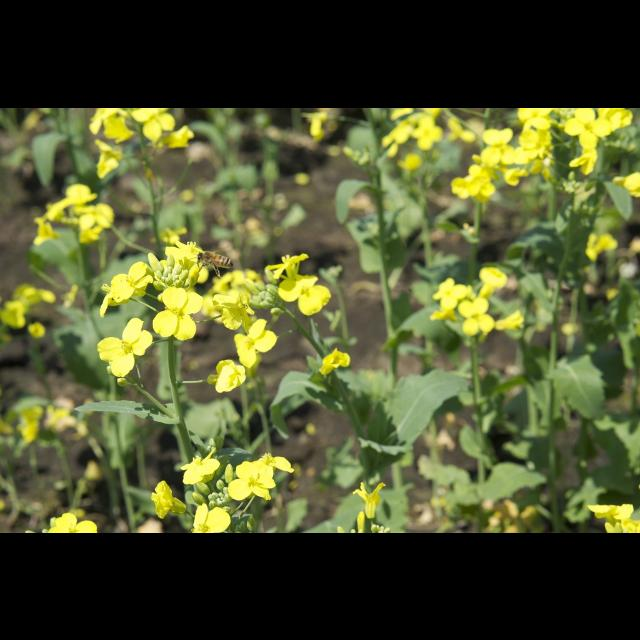Flower: (384, 107, 634, 201), (95, 237, 272, 333), (88, 107, 198, 179), (430, 264, 530, 334), (34, 178, 118, 242), (0, 398, 91, 448), (0, 281, 78, 337), (98, 316, 148, 374), (151, 284, 201, 340), (274, 272, 332, 318), (226, 458, 276, 502), (236, 316, 276, 366), (179, 447, 221, 485), (203, 356, 243, 394), (149, 480, 185, 520), (350, 480, 386, 520), (190, 502, 233, 532), (254, 450, 296, 476), (316, 348, 352, 378), (584, 232, 620, 262), (49, 510, 97, 532), (268, 252, 308, 278), (610, 168, 640, 198), (302, 107, 328, 135), (588, 502, 632, 518), (604, 518, 640, 532), (82, 461, 102, 477), (356, 510, 364, 532)
